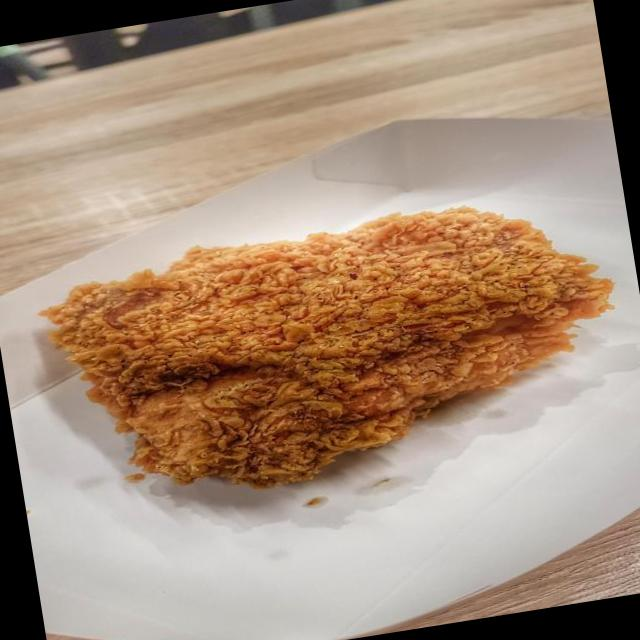Fried Chicken: (45, 206, 614, 491)
